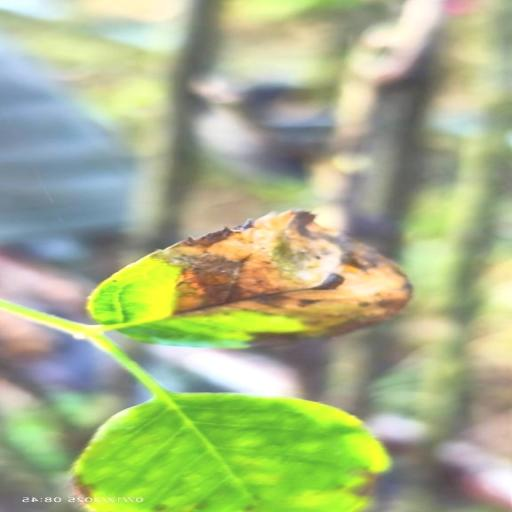thrip: (88, 211, 411, 348)
